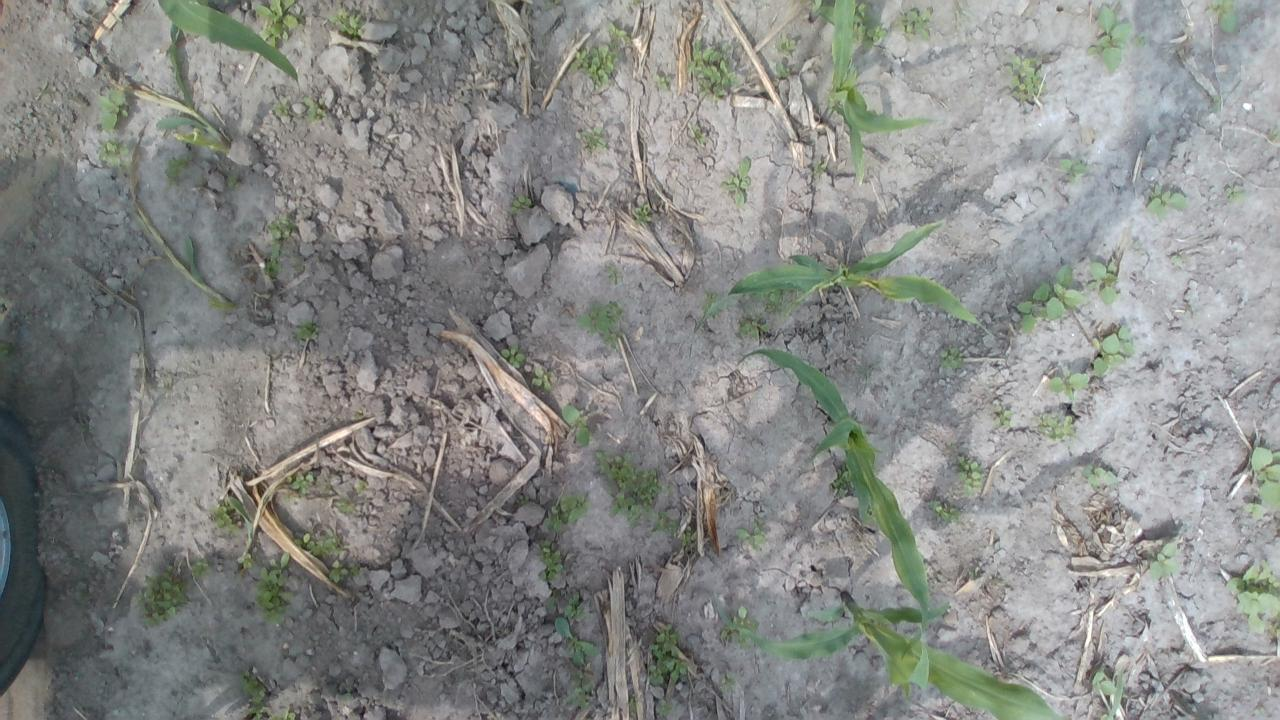Maize: (736, 348, 932, 649), (712, 590, 1060, 720), (692, 216, 991, 334), (828, 0, 946, 187), (154, 1, 296, 88)
Weeds: (594, 448, 694, 546), (1017, 262, 1123, 336), (1045, 329, 1133, 394), (1225, 560, 1279, 635), (552, 595, 602, 669), (293, 536, 352, 587), (1090, 7, 1134, 73), (1244, 443, 1280, 522), (647, 628, 692, 688), (255, 553, 292, 618), (576, 301, 626, 348), (694, 46, 740, 96), (252, 1, 299, 49), (137, 576, 180, 626), (1092, 669, 1129, 720), (574, 45, 616, 87), (267, 216, 293, 280), (720, 158, 753, 207), (550, 490, 586, 534), (98, 88, 130, 134), (1006, 59, 1042, 99), (722, 606, 756, 648), (208, 498, 246, 535), (240, 674, 270, 720), (1148, 188, 1188, 219), (1151, 540, 1182, 578), (1038, 413, 1076, 441), (567, 672, 596, 708), (562, 407, 588, 447), (538, 544, 566, 581), (1208, 0, 1240, 32), (958, 457, 982, 493), (903, 8, 932, 36), (164, 156, 192, 184), (332, 10, 364, 34), (1084, 466, 1120, 487), (99, 145, 128, 169), (932, 501, 958, 524), (738, 528, 765, 548), (940, 348, 962, 371), (834, 470, 853, 496), (860, 23, 886, 42), (530, 370, 552, 390), (740, 315, 769, 330), (1062, 159, 1084, 178), (190, 559, 208, 582), (503, 348, 523, 368), (293, 325, 316, 342), (582, 132, 602, 151), (304, 98, 322, 118), (331, 498, 353, 514), (608, 23, 626, 42), (995, 411, 1012, 431), (722, 670, 736, 694), (512, 194, 530, 212), (293, 474, 311, 492), (1226, 184, 1244, 198), (779, 38, 796, 52), (775, 63, 790, 77), (636, 209, 650, 224), (608, 265, 620, 282), (275, 102, 289, 116), (658, 74, 671, 88), (693, 127, 705, 142), (352, 479, 364, 494), (1273, 130, 1280, 144)
